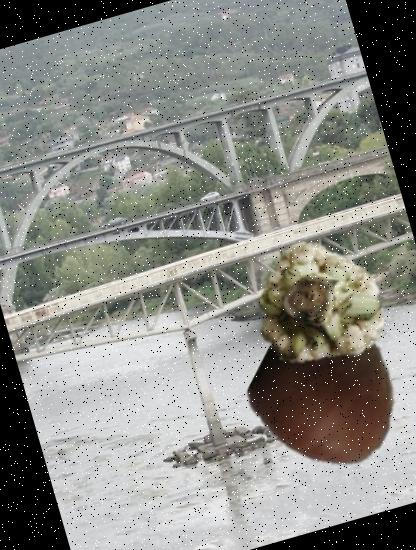Cauliflower: (241, 230, 404, 394)
Nut: (237, 301, 416, 482)
